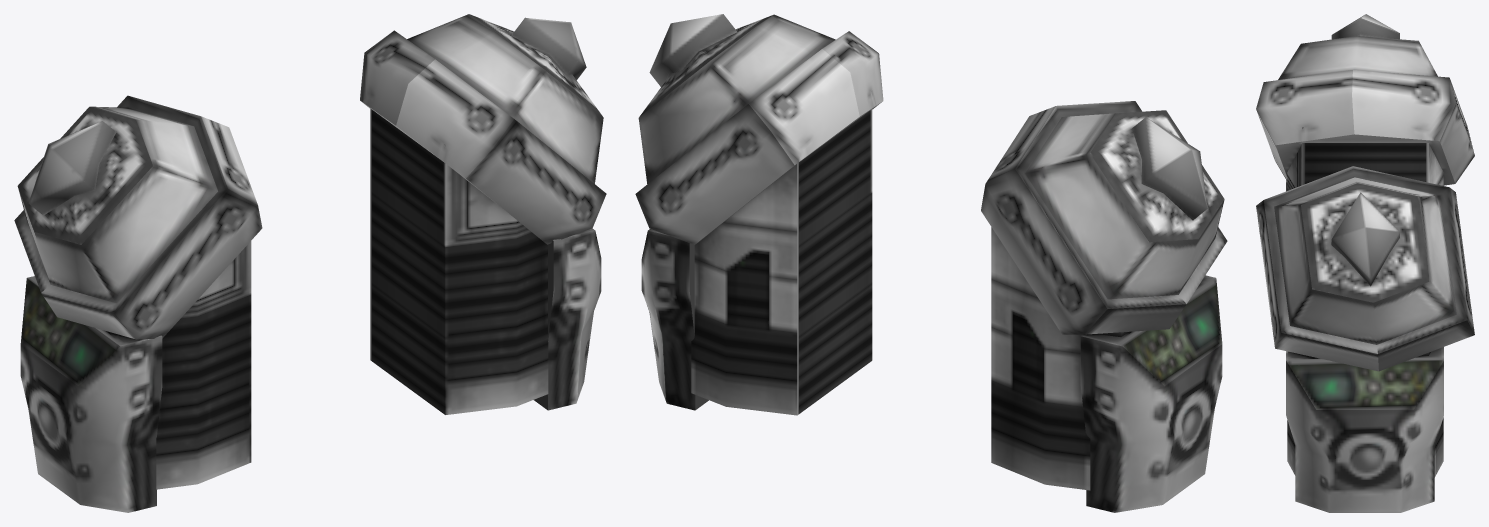
The model's file is mps_arms.obj.
3 views of the same model, side by side, from view 1: azimuth 30°, elevation 25°; view 2: azimuth 150°, elevation 25°; view 3: azimuth 270°, elevation 25° (orthographic). The views are drawn at different scales.
Visible parts, largest first — view 1: arms2, arms3, crystal_shoulder_2, crystal_shoulder_1; view 2: arms2, arms3, crystal_shoulder_2, crystal_shoulder_1; view 3: arms2, arms3, crystal_shoulder_1, crystal_shoulder_2.
Part boxes in pixels (box(x1,y1,x2,y2)): arms2: box(360, 14, 606, 414); arms3: box(14, 95, 262, 512); crystal_shoulder_2: box(17, 106, 152, 244); crystal_shoulder_1: box(470, 14, 602, 116); arms2: box(635, 14, 883, 415); arms3: box(981, 101, 1227, 512); crystal_shoulder_2: box(1090, 110, 1224, 242); crystal_shoulder_1: box(639, 14, 772, 116); arms2: box(1256, 166, 1474, 512); arms3: box(1256, 36, 1474, 191); crystal_shoulder_1: box(1301, 183, 1429, 302); crystal_shoulder_2: box(1331, 14, 1399, 39).
Bounding box in the file's own units: 21.96 × 13.56 × 8.85.
